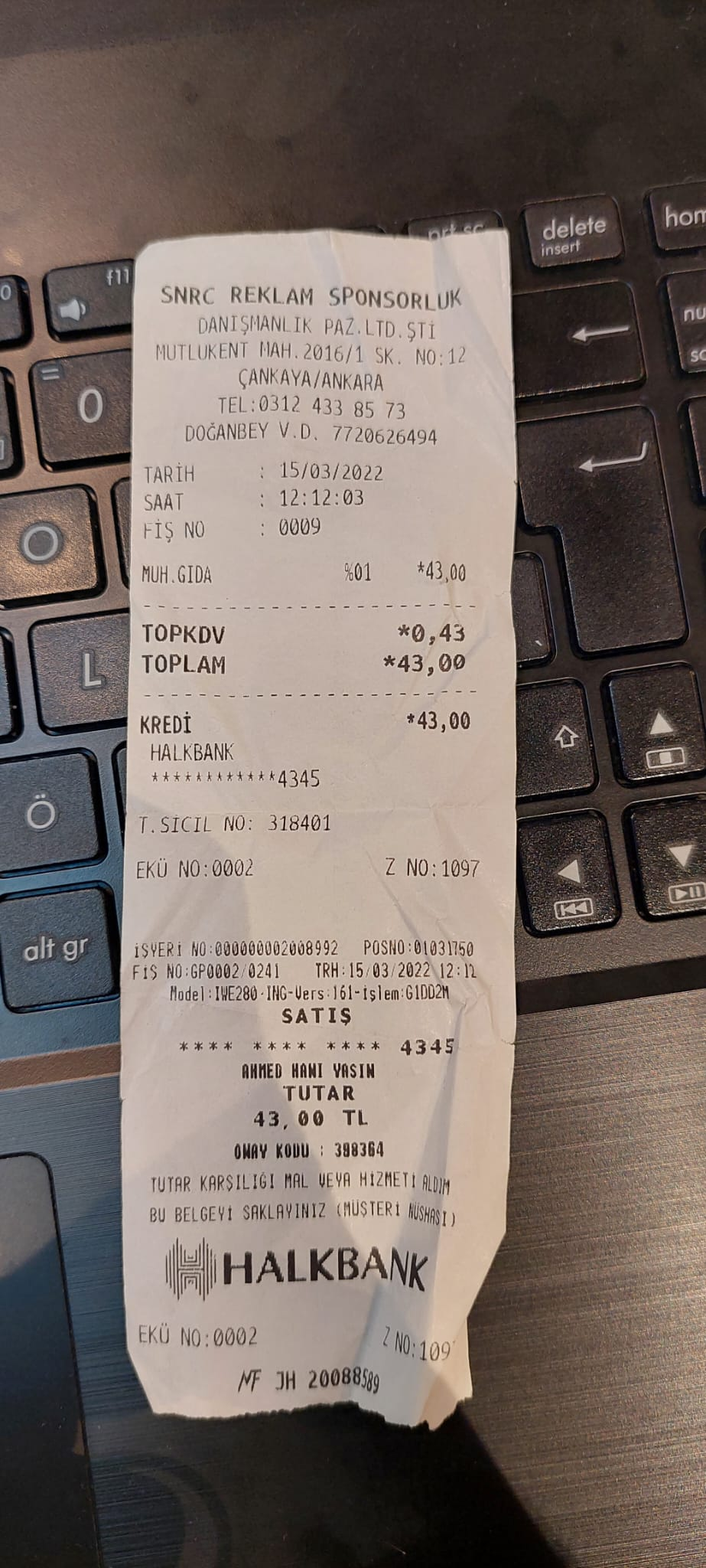date: (272, 452, 393, 487)
price: (397, 648, 471, 682)
workplace: (149, 277, 477, 396)
